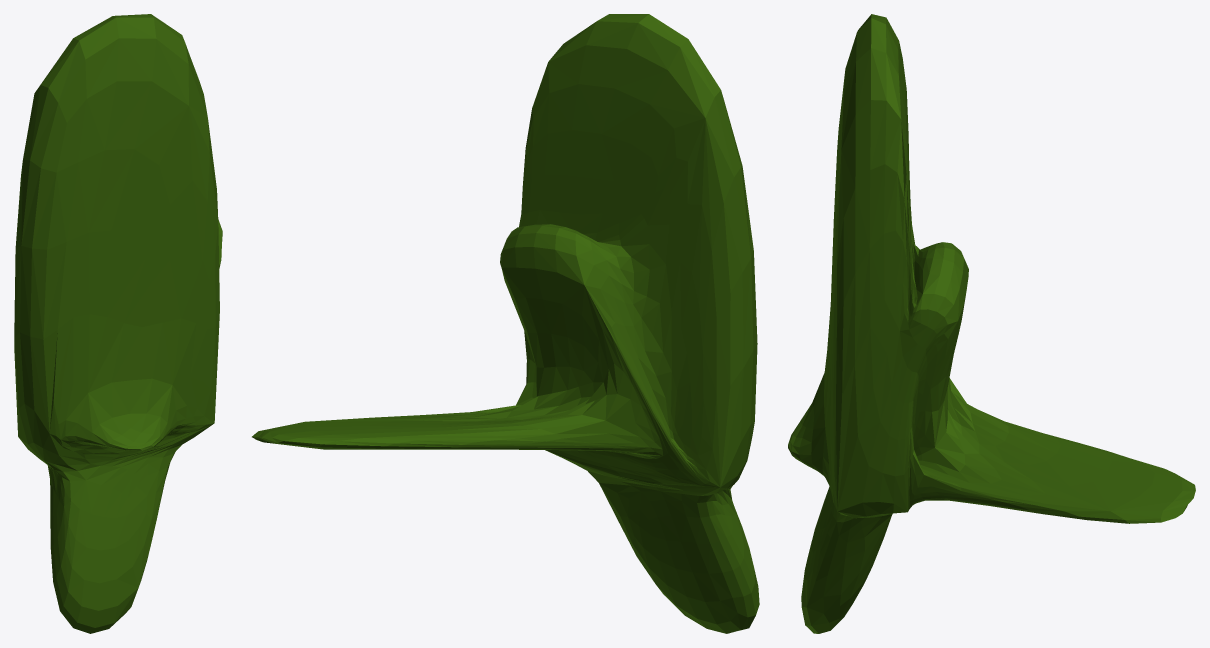
3 views of the same model, side by side, from view 1: azimuth 30°, elevation 25°; view 2: azimuth 150°, elevation 25°; view 3: azimuth 270°, elevation 25° (orthographic). The views are drawn at different scales.
Visible parts, largest first — view 1: 248_Cube.1017; view 2: 248_Cube.1017; view 3: 248_Cube.1017.
Part boxes in pixels (x1=…): 248_Cube.1017: x1=14, y1=14, x2=222, y2=633; 248_Cube.1017: x1=252, y1=14, x2=759, y2=633; 248_Cube.1017: x1=788, y1=14, x2=1195, y2=633.
Size of the model in its own units: 9.27 by 15.65 by 9.13.
